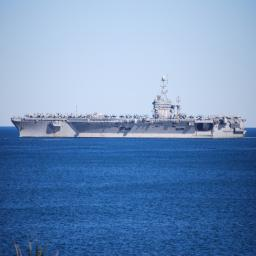Portanaves: (10, 73, 249, 142)
